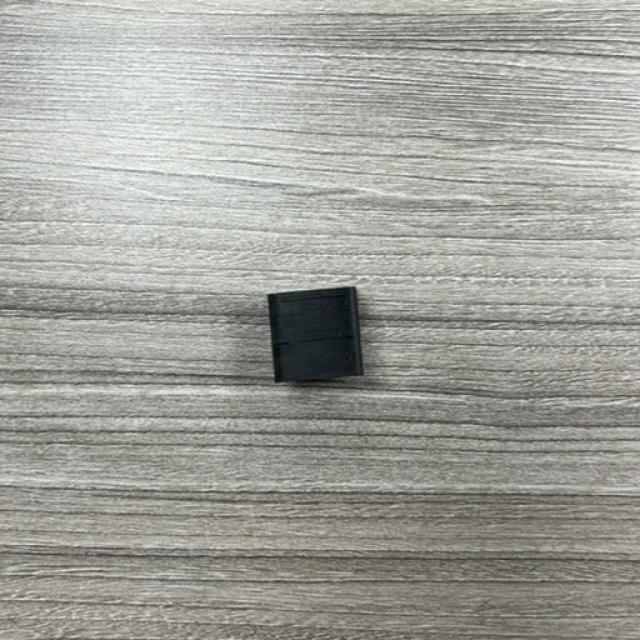Negro: (266, 286, 365, 385)
